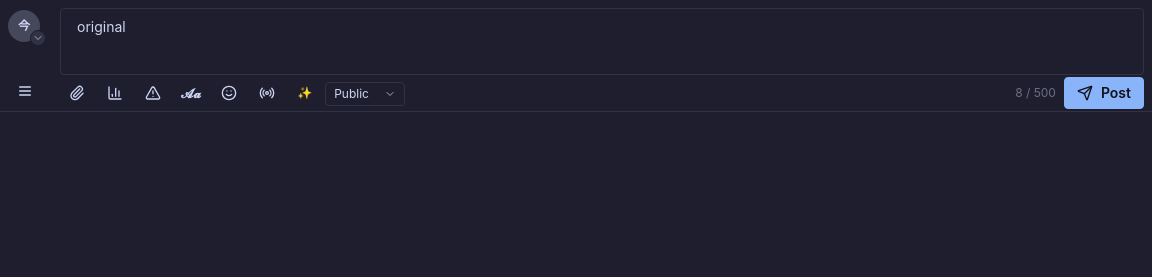
Test: ComposeAreaController › applies a plugin button result to the draft without posting
Click the button named "Transform draft".
click(305, 93)  # box [288,81,321,105]
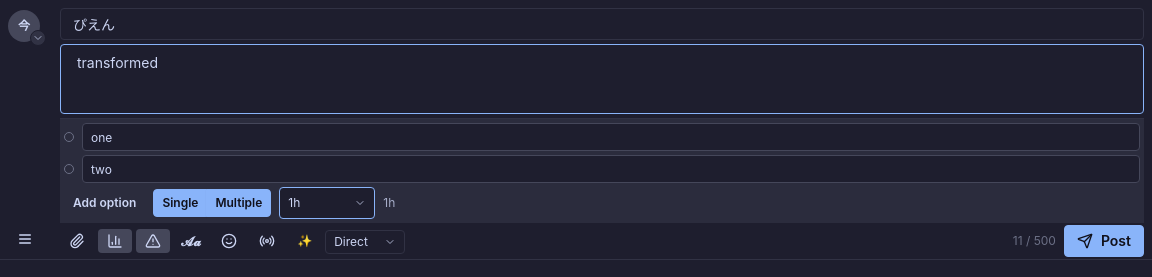
Result: the 1st field showing "ぴえん" is shown at [60,8,1144,40]
Result: the button "Direct" is shown at [325,230,405,254]
Result: the 2nd field showing "one" is shown at [82,123,1140,151]
